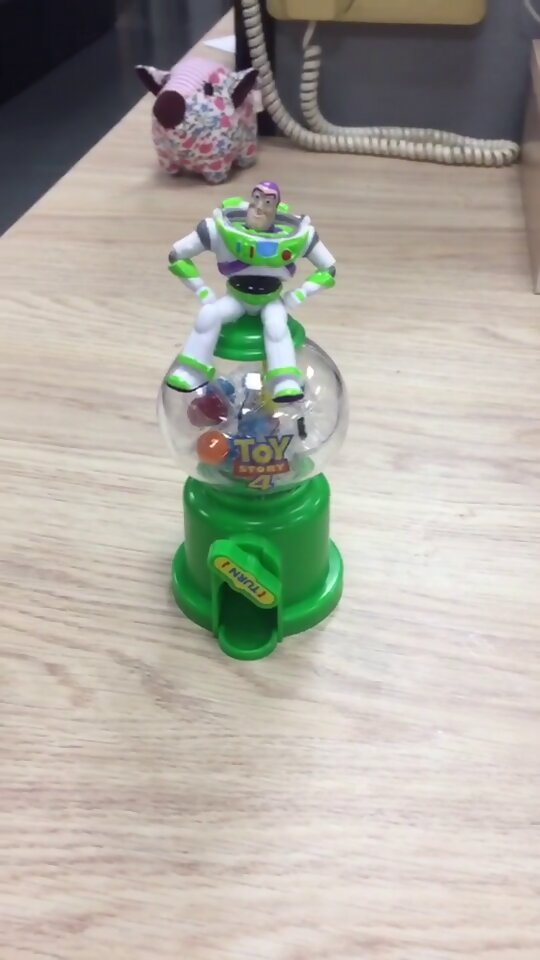buzz: (157, 176, 347, 664)
